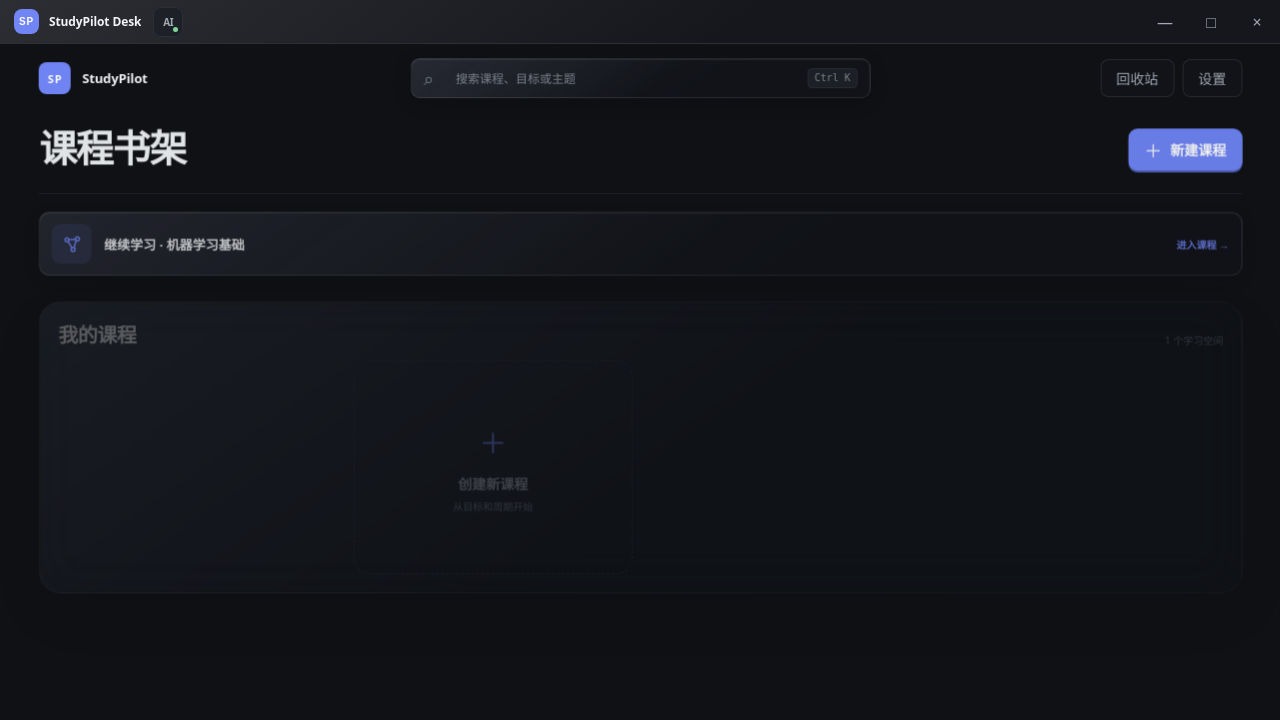
Test: opens the typed course wizard from the global shelf
This screenshot has width=1280, height=720.
Expected: the heading "课程书架" is shown, [38,127,185,168]
Click the button "＋ 新建课程" at {"x": 1185, "y": 149}, box [1128,128,1242,170]
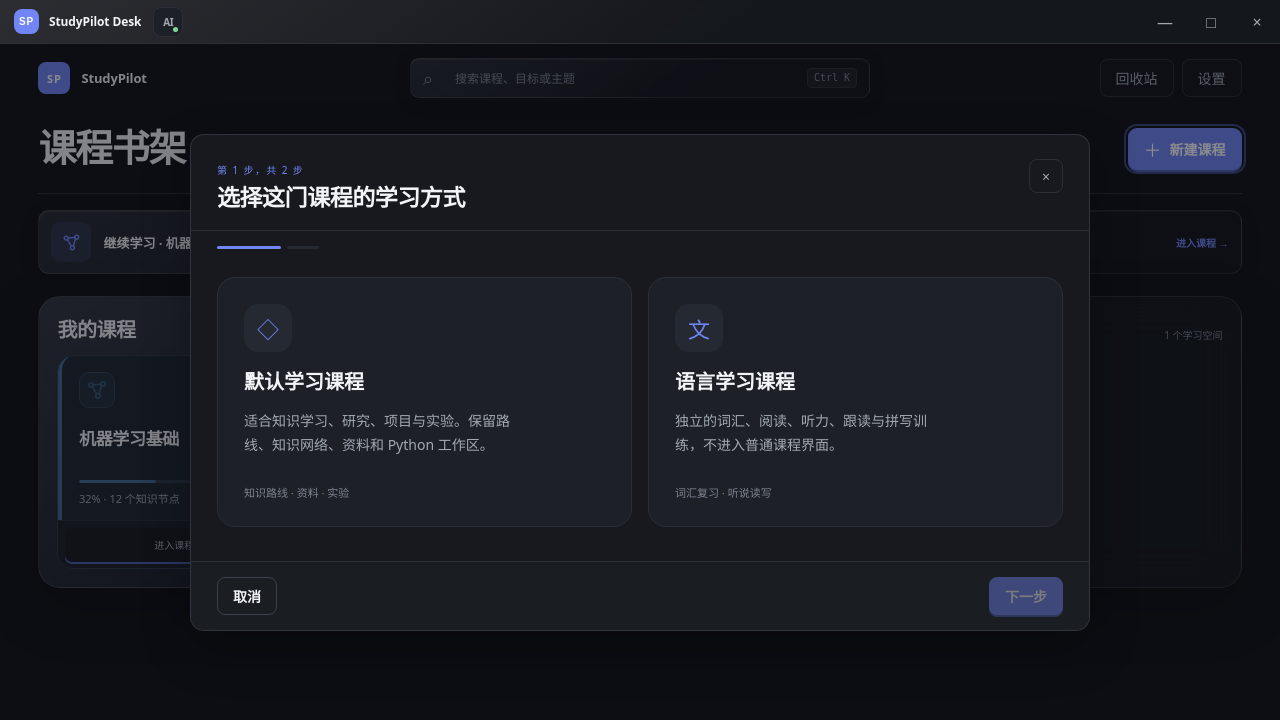
Expected: the dialog "选择这门课程的学习方式" is shown, [190,134,1090,630]
